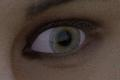eye: (51, 29, 80, 52)
